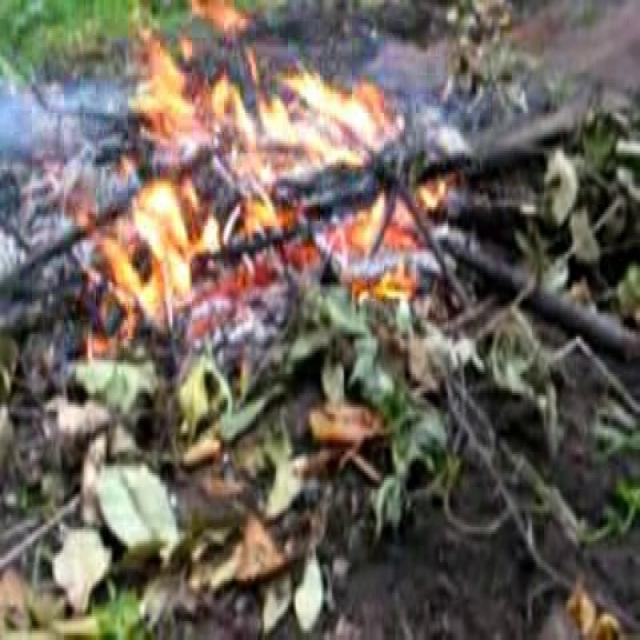Fire: (103, 51, 450, 314)
